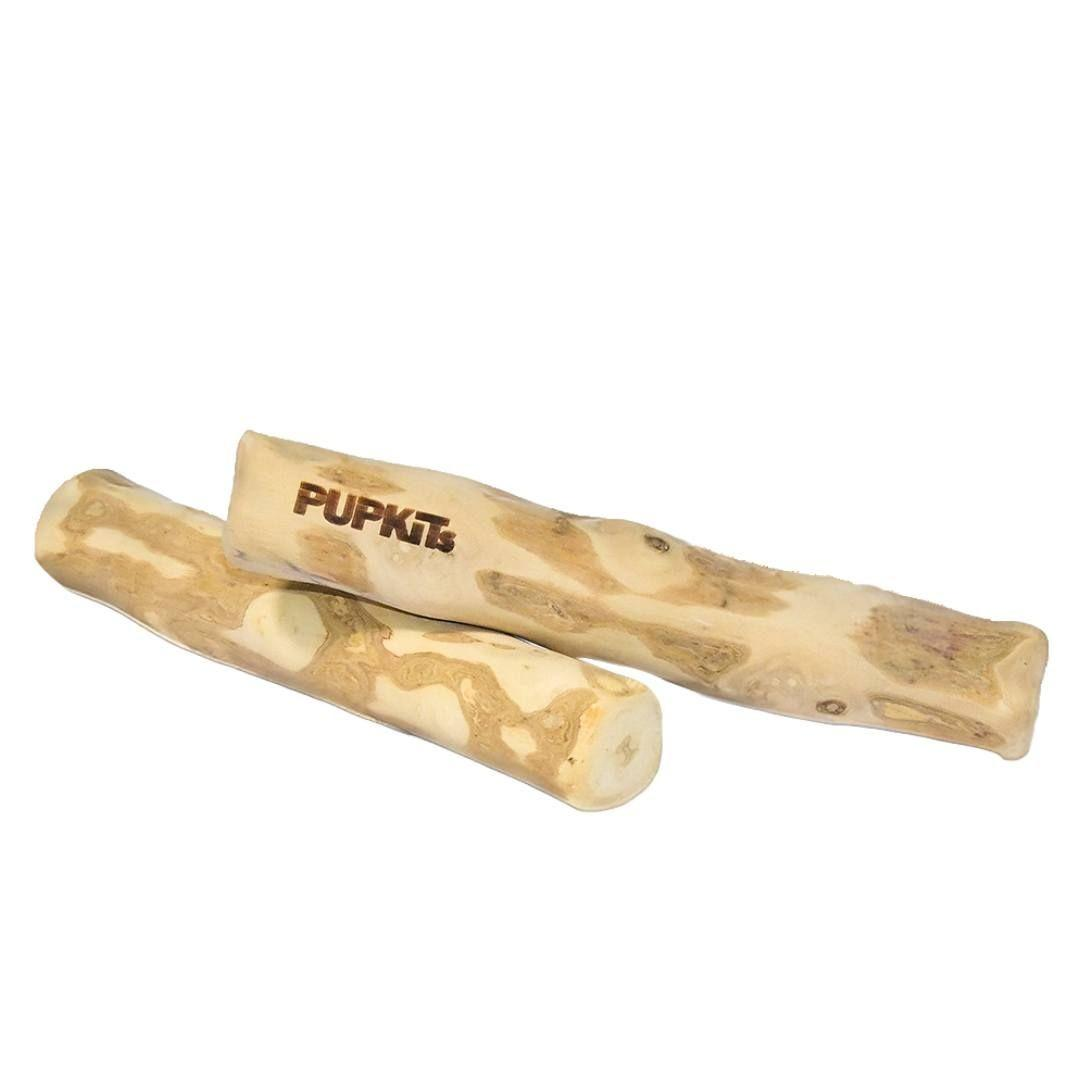non-dog: (33, 429, 1054, 814)
